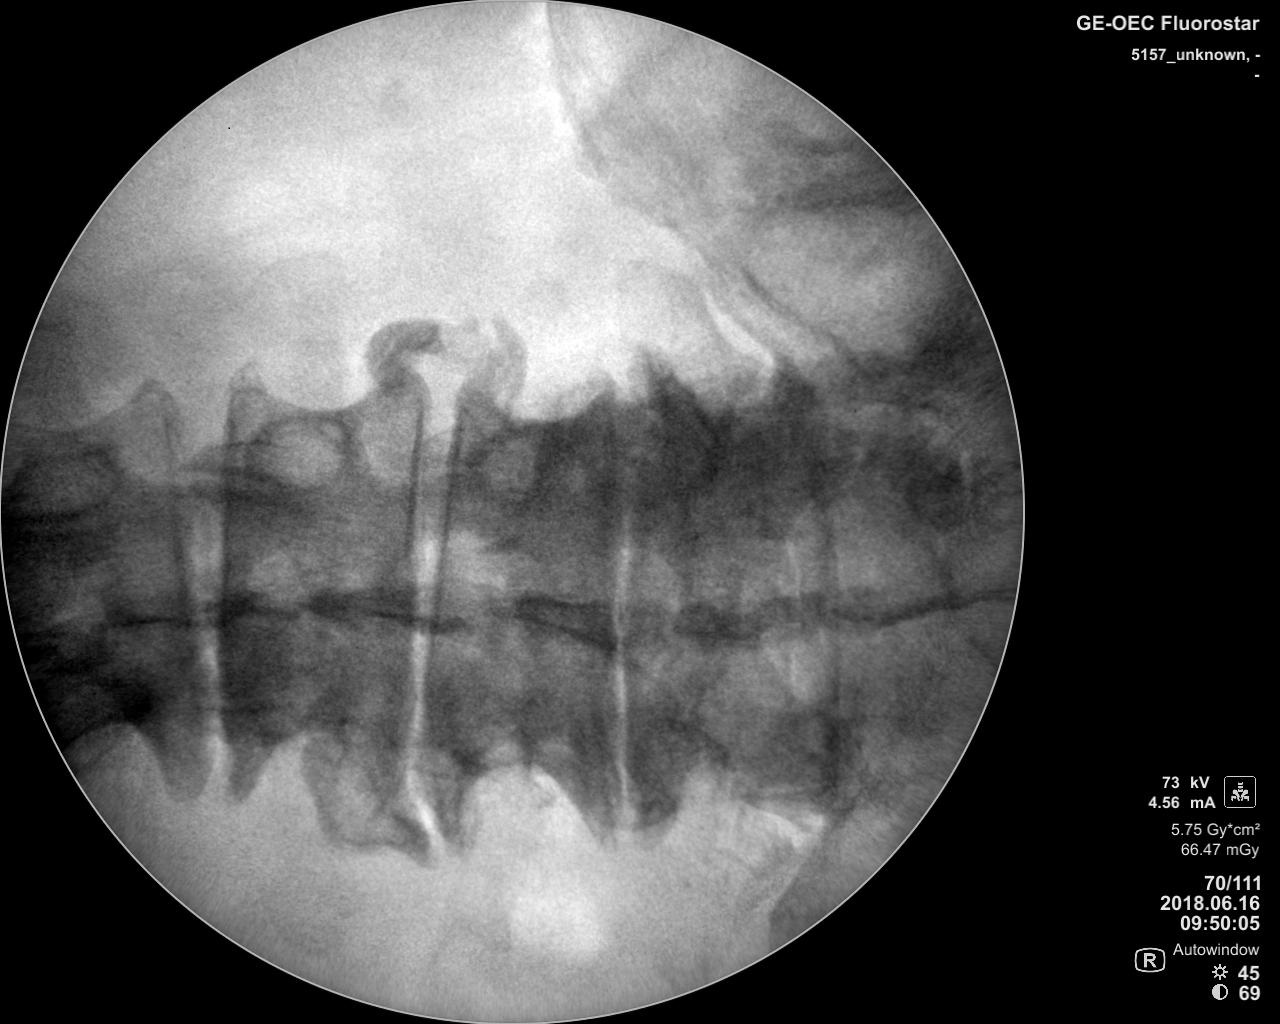eyes: (10, 443, 125, 529), (624, 709, 734, 798), (629, 398, 728, 491), (245, 409, 351, 489), (441, 700, 540, 779), (469, 421, 557, 510), (245, 659, 329, 732)
line: (141, 367, 210, 791), (596, 369, 654, 837), (792, 362, 852, 817), (412, 385, 470, 824), (385, 360, 430, 821), (211, 363, 259, 802)
nose: (485, 581, 644, 662), (313, 576, 470, 639), (662, 587, 817, 648), (104, 585, 243, 641)
